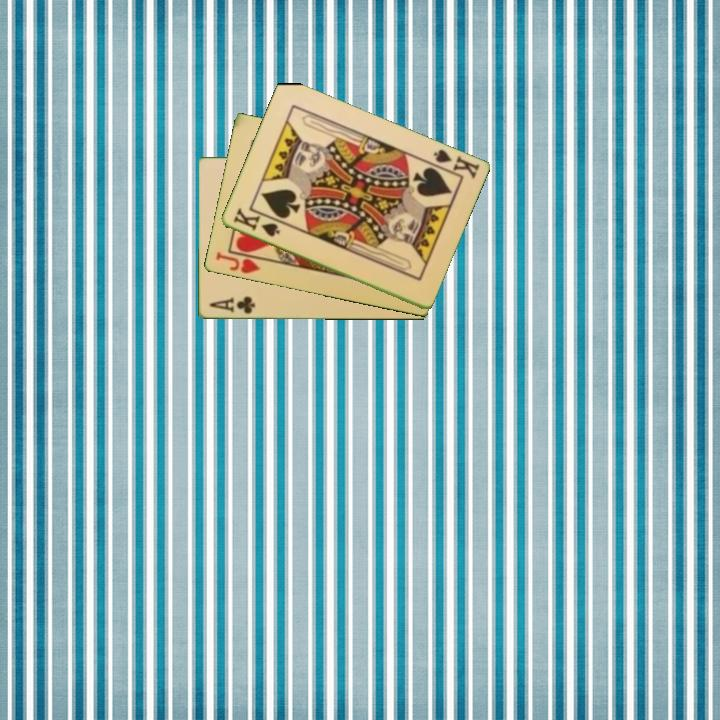Ac: (205, 293, 257, 317)
Jh: (212, 248, 263, 277)
Ks: (424, 146, 482, 182), (229, 204, 282, 240)
